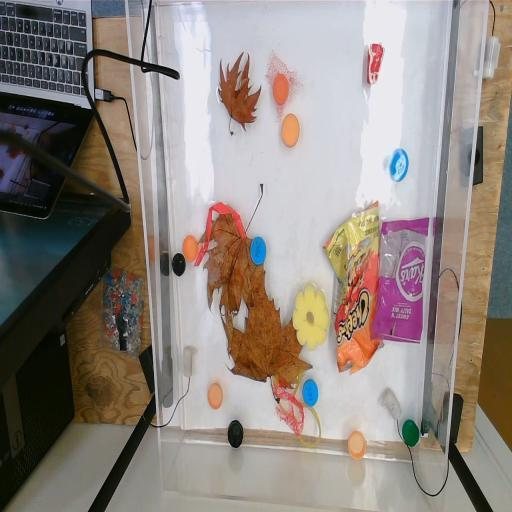Bottle Cap: (388, 146, 408, 182), (281, 113, 300, 148), (272, 72, 290, 106), (348, 429, 366, 461), (402, 419, 420, 448), (250, 236, 267, 266), (226, 420, 244, 448), (302, 378, 318, 408), (182, 235, 198, 263), (207, 383, 223, 409), (172, 252, 186, 277)
Cone Cap: (366, 40, 386, 86)
Leaf: (220, 268, 314, 404), (198, 182, 268, 328), (217, 50, 262, 137)
Netting: (266, 48, 306, 124), (273, 377, 305, 436)
Plastic Bag: (320, 200, 385, 376), (370, 214, 431, 348)
Plastic Strand: (271, 370, 322, 449), (193, 202, 247, 269)
Sponge: (292, 282, 330, 350)
